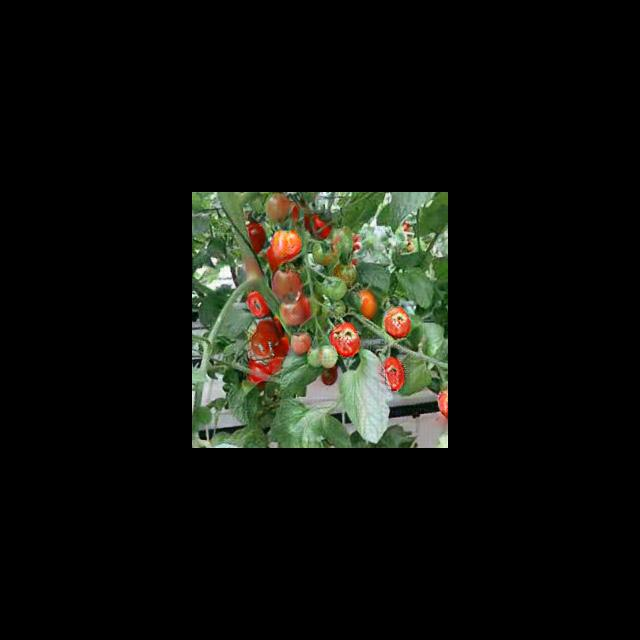tomato: (269, 267, 303, 304), (329, 321, 362, 358), (271, 229, 301, 258), (382, 307, 410, 338), (382, 357, 407, 390), (247, 290, 271, 320)
